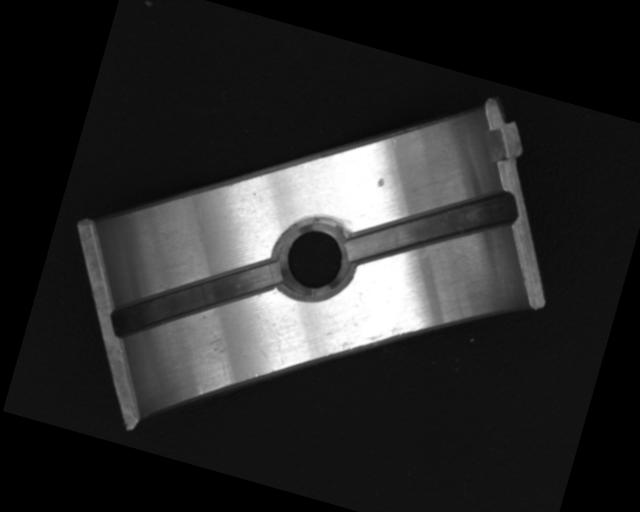bruise: (374, 175, 386, 187)
gap: (106, 222, 284, 374), (343, 154, 522, 302)
hole: (270, 212, 355, 305)
